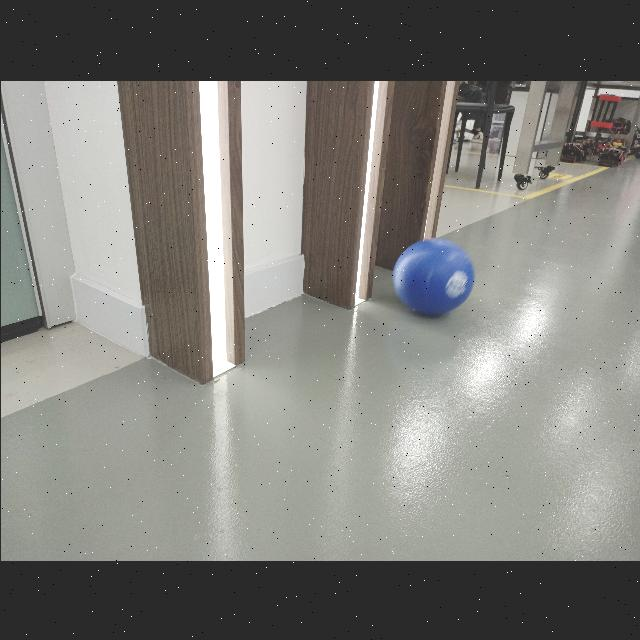B: (392, 236, 474, 314)
